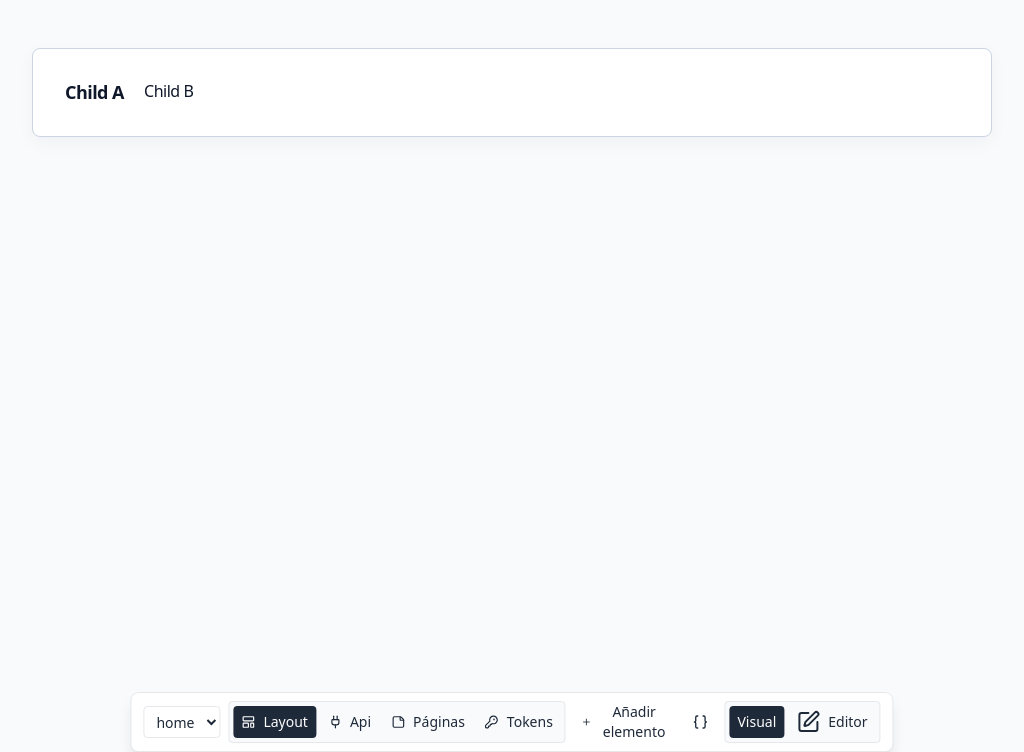
Test: LayoutCanvas: eliminar nodo seleccionado (FR9) › tras el borrado la selección queda limpia: sin outline de selección, sin panel de propiedades ni breadcrumb
Step 1. Click the button with test id "dev-editor-toolbar-mode-editor" → (832, 722), box x1=788 y1=706 x2=876 y2=738
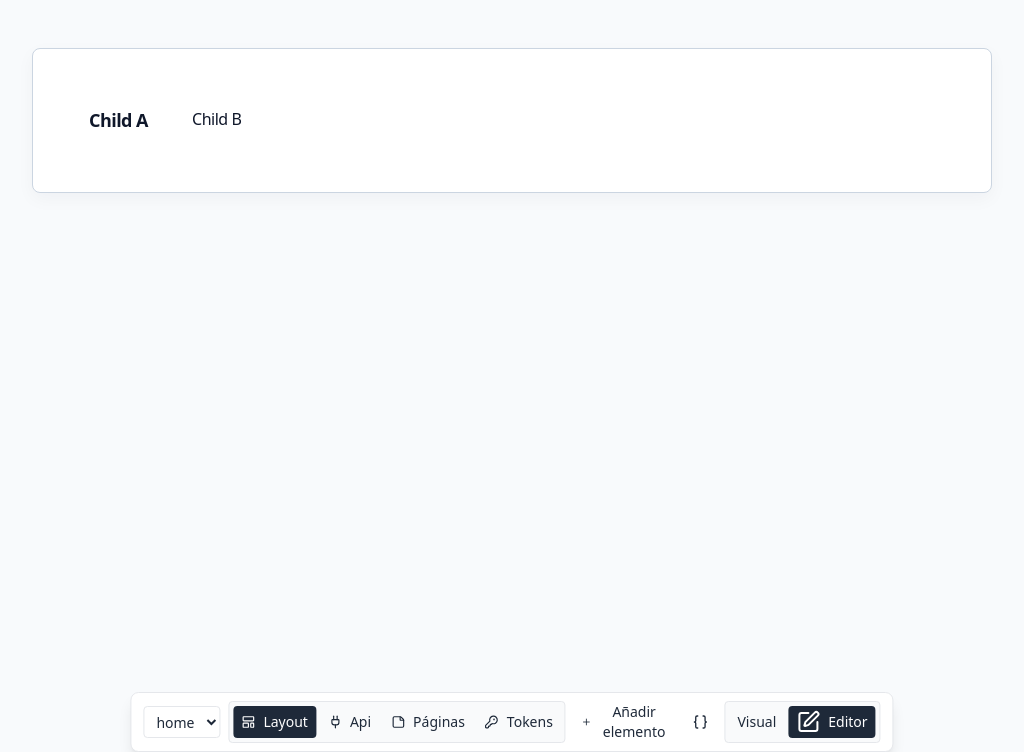
Step 2. Click the element showing "Child A Child B" → (118, 120), box x1=89 y1=108 x2=241 y2=132
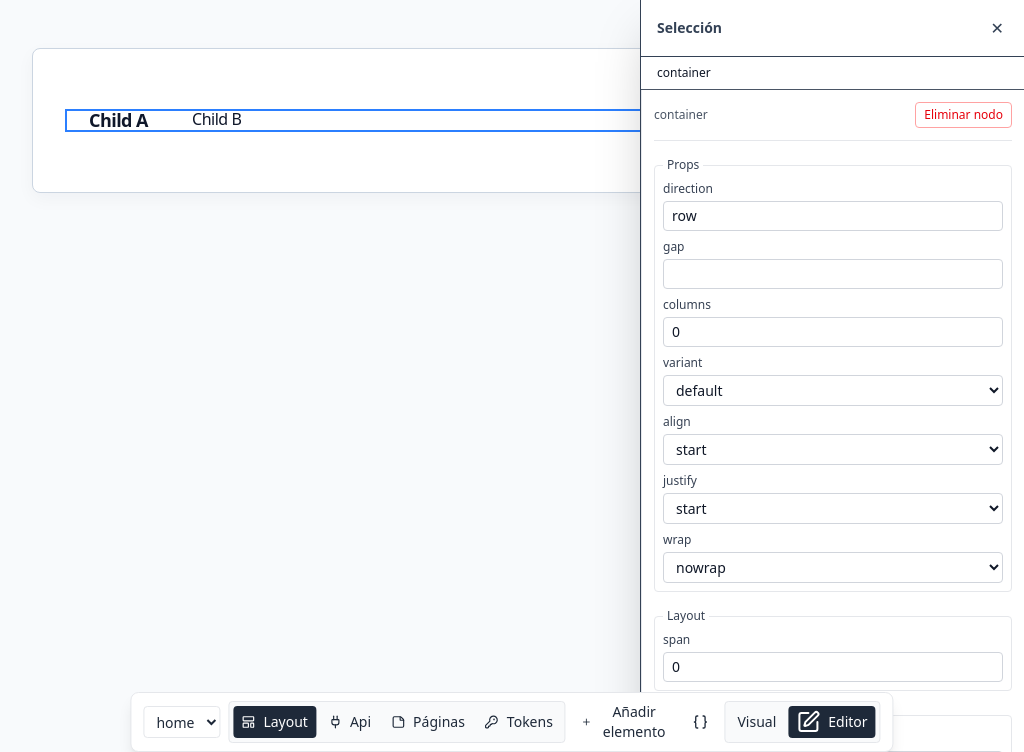
Now the navigation bar with test id "layout-canvas-breadcrumb" is shown, box x1=641 y1=57 x2=1023 y2=90
Step 3. Click the button with test id "layout-canvas-delete-node-button" → (964, 115), box x1=915 y1=102 x2=1012 y2=128
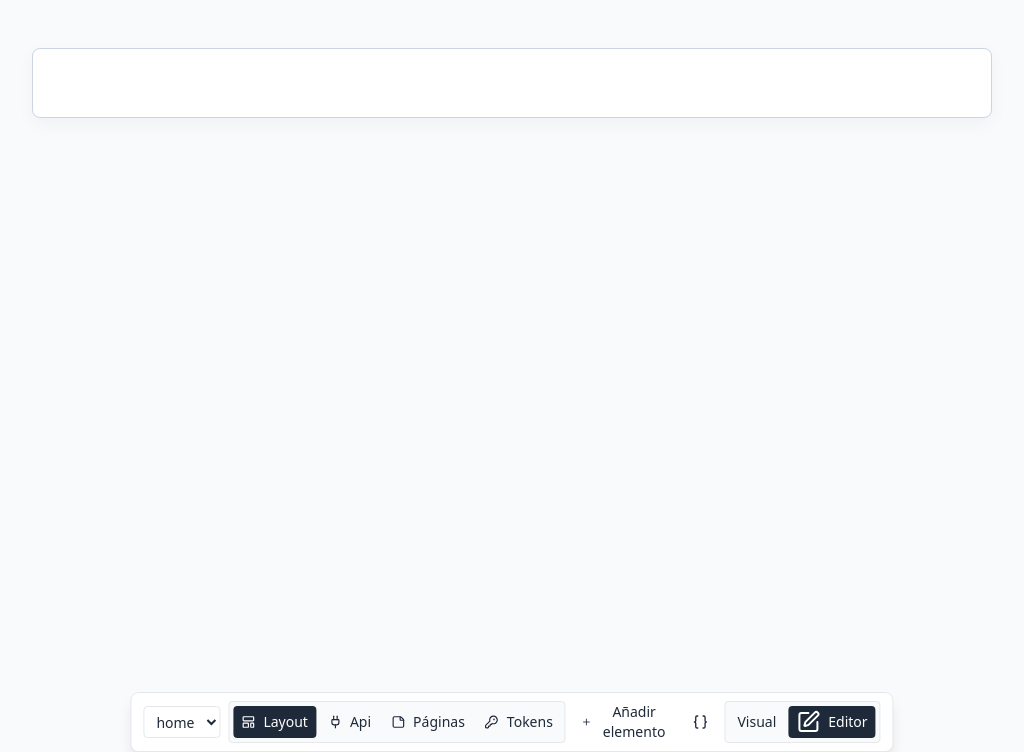
Now the element with class "outline-blue-500" is gone
Now the navigation bar with test id "layout-canvas-breadcrumb" is gone
